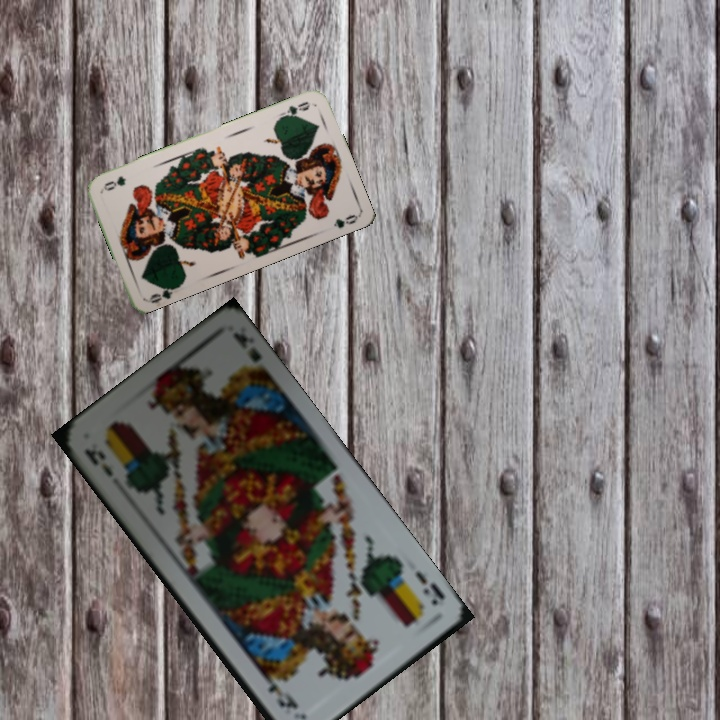EK: (411, 566, 448, 608), (80, 444, 116, 479)
GO: (145, 281, 183, 306), (275, 97, 312, 122)
